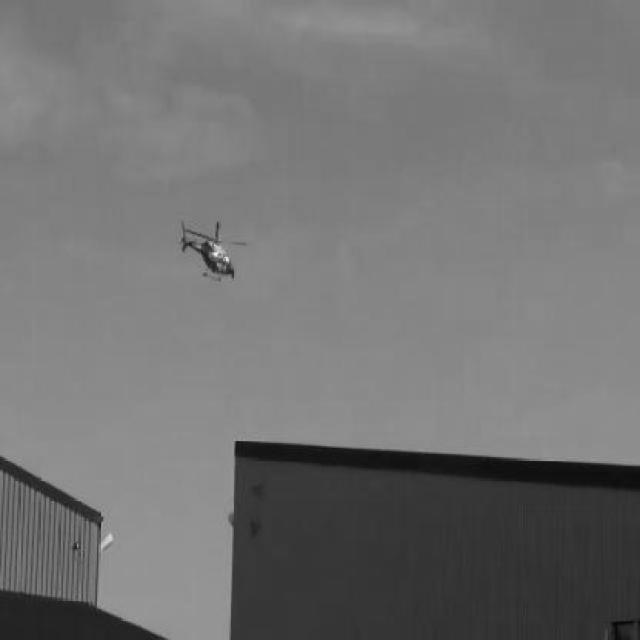helikopter: (181, 220, 247, 280)
